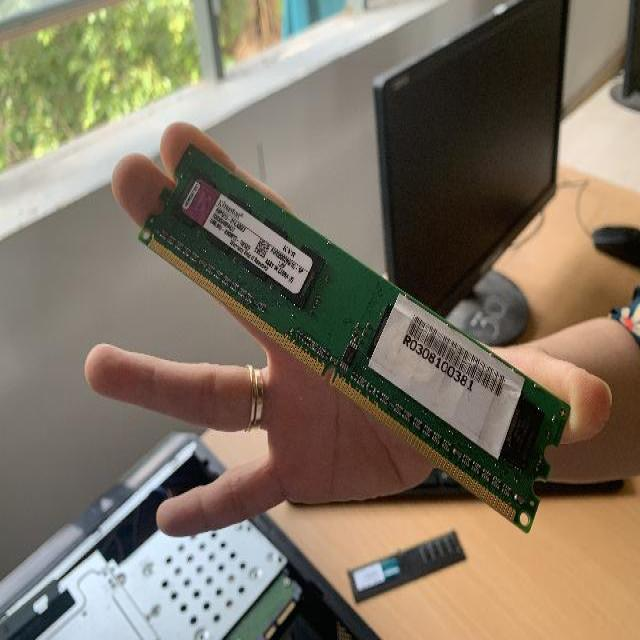RAM: (137, 136, 573, 533)
